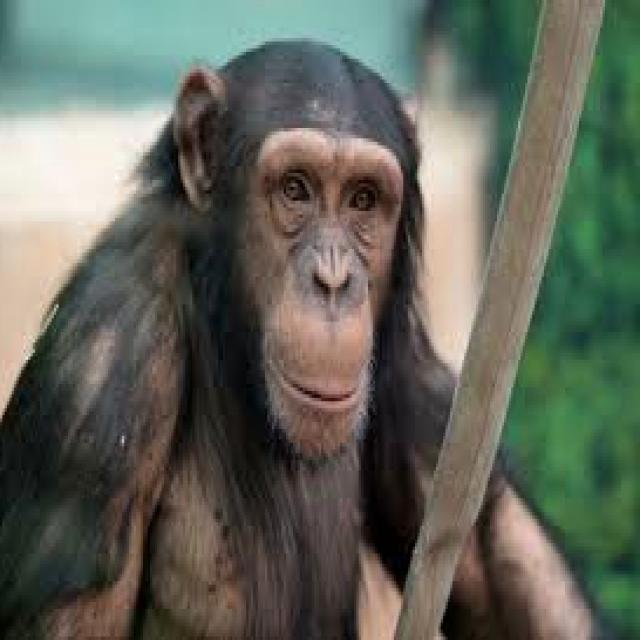chimpanzee: (2, 42, 457, 637), (445, 457, 595, 637)
